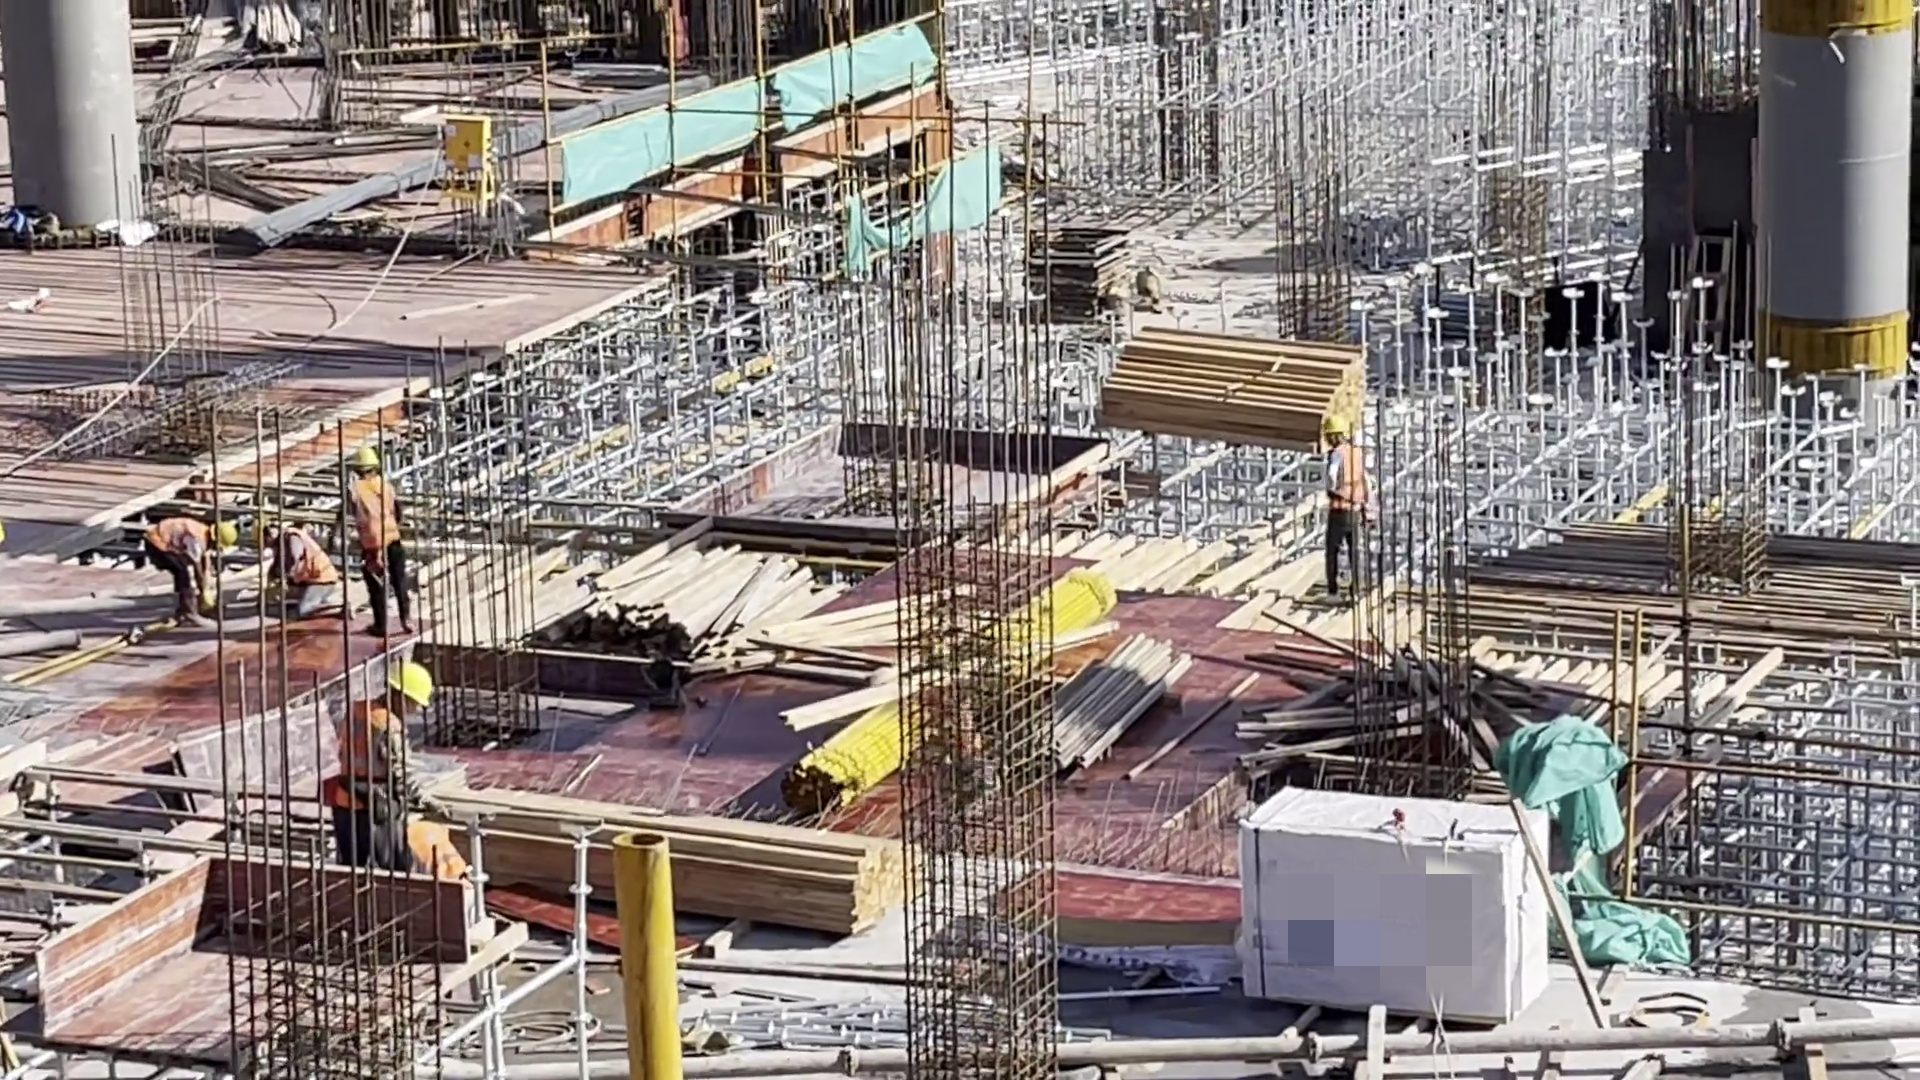helmet: (368, 663, 434, 709), (1316, 421, 1358, 448), (211, 519, 245, 552), (355, 436, 376, 478), (246, 511, 273, 543)
person: (321, 633, 431, 867), (134, 505, 238, 635), (343, 448, 420, 600), (1312, 417, 1368, 604), (265, 515, 342, 634)
vest: (330, 709, 409, 818), (277, 528, 339, 582), (348, 483, 406, 539), (1326, 452, 1373, 518), (142, 520, 215, 559)
